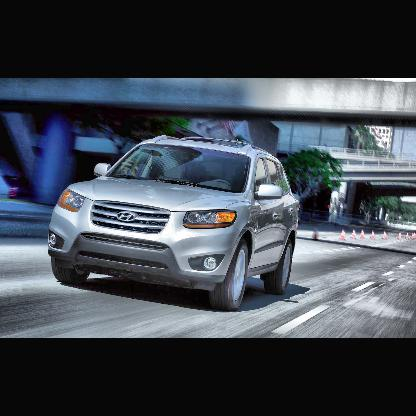Hyundai Santa Fe SUV 2012: (48, 133, 301, 311)
